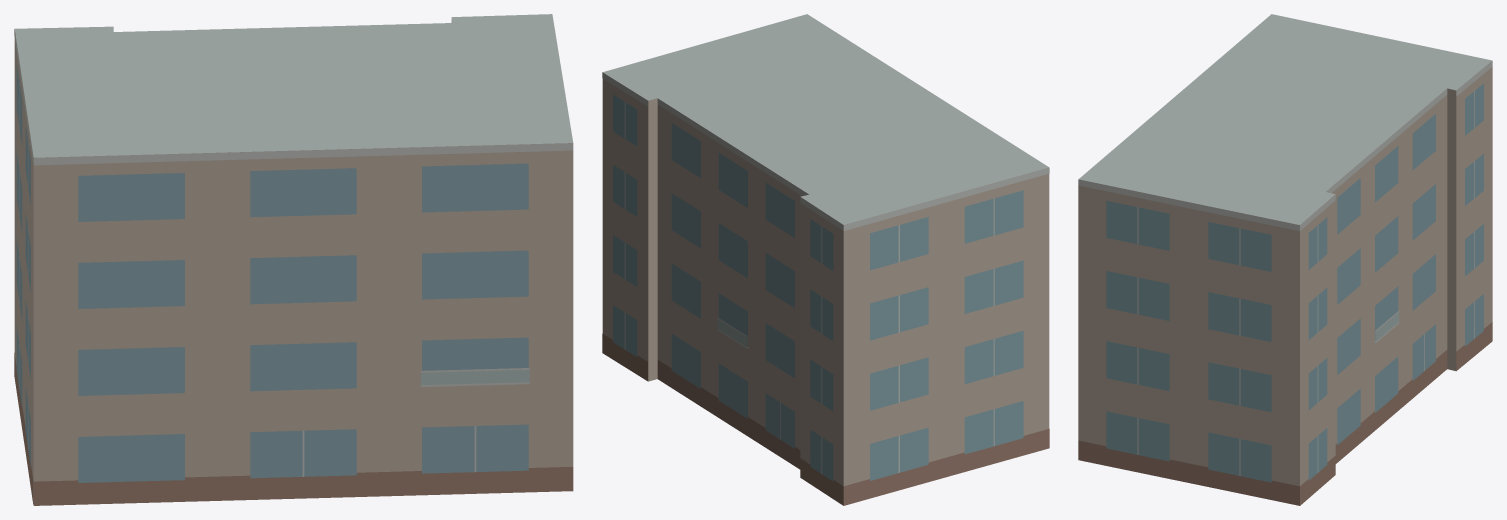
The model's file is survey-upis-32945705.glb.
3 views of the same model, side by side, from view 1: azimuth 30°, elevation 25°; view 2: azimuth 150°, elevation 25°; view 3: azimuth 270°, elevation 25° (orthographic). The views are drawn at different scales.
Visible parts, largest first — view 1: survey-upis-32945705.tmp; view 2: survey-upis-32945705.tmp; view 3: survey-upis-32945705.tmp.
Boxes of the visible parts, x1,y1,x2,y2 form: survey-upis-32945705.tmp: [14, 14, 573, 505]; survey-upis-32945705.tmp: [602, 14, 1049, 505]; survey-upis-32945705.tmp: [1078, 14, 1492, 505].
Size of the model in its own units: 18.07 by 11.2 by 14.98.
